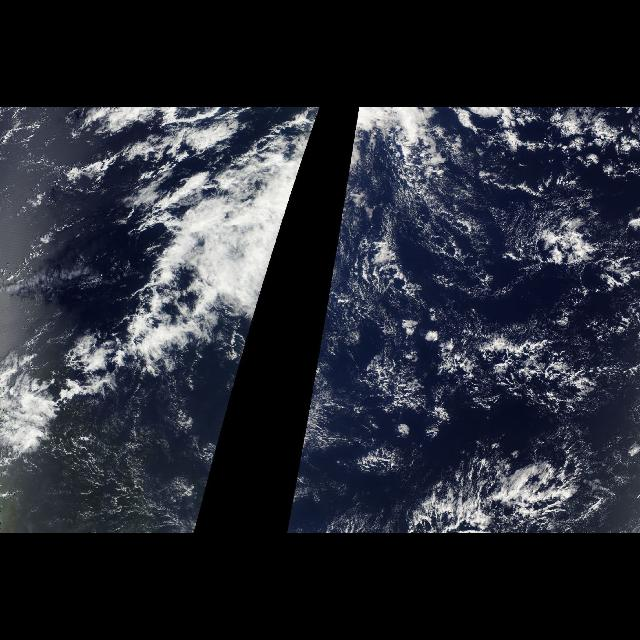Fish: (22, 108, 320, 368), (315, 108, 459, 368)
Gravel: (327, 212, 639, 534)
